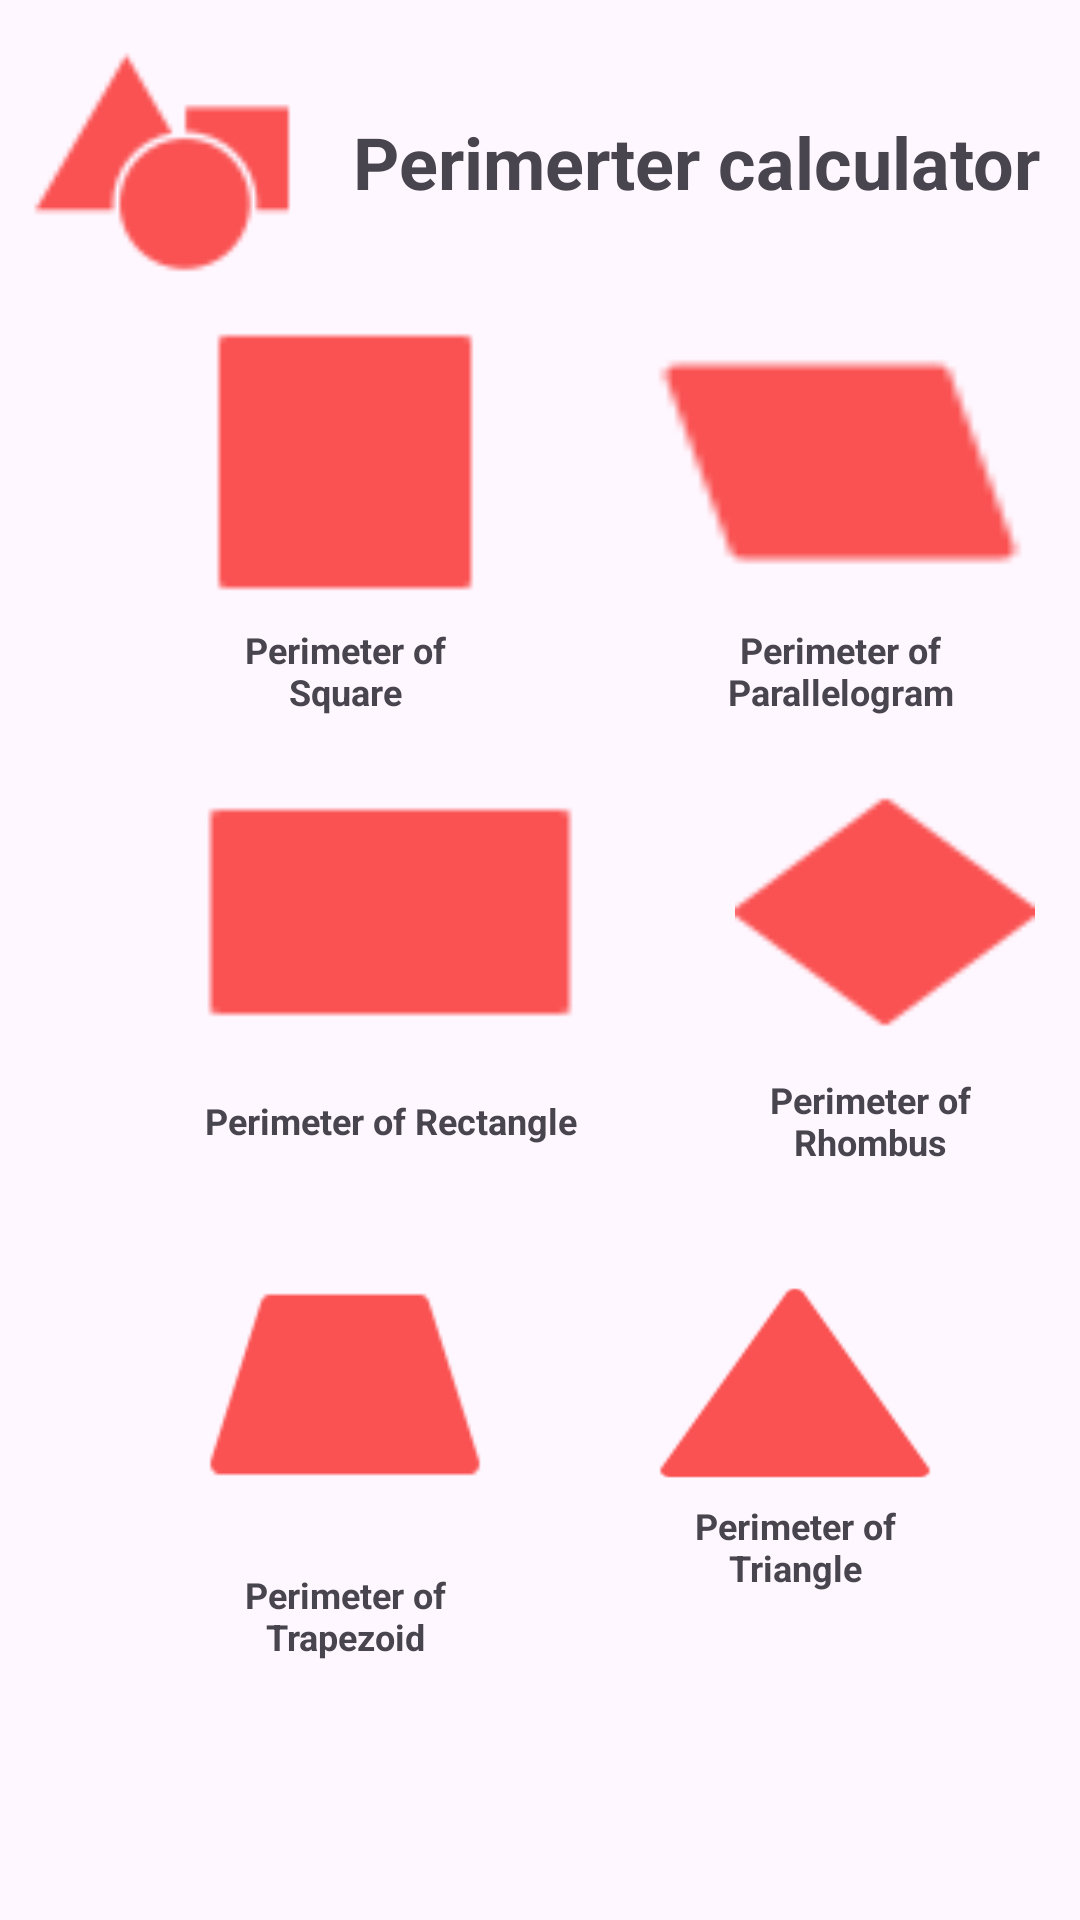

Icon click points for this 1080x1920 phone screenshot, format [x,y]:
shapes: [162,162]
